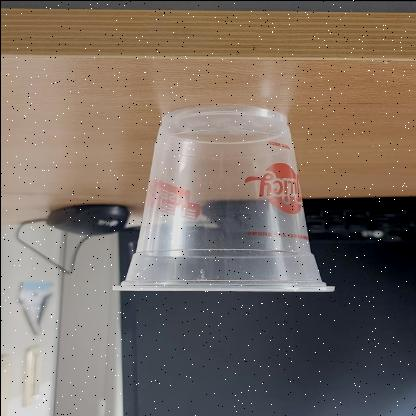Others: (112, 105, 336, 294)
